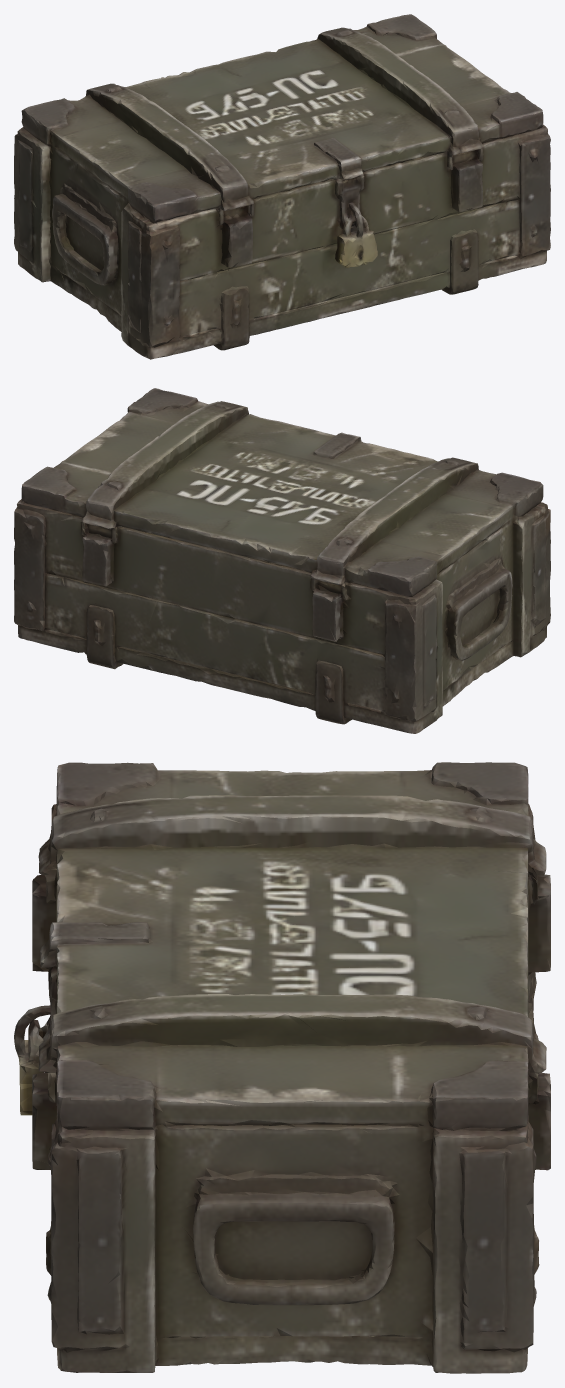
Rendered from military_crate.glb.
3 renders of one model, top to bottom at view 1: azimuth 30°, elevation 25°; view 2: azimuth 150°, elevation 25°; view 3: azimuth 270°, elevation 25°, orthographic. The views are drawn at different scales.
Parts seen in each view (by area): view 1: military_crate; view 2: military_crate; view 3: military_crate.
Boxes of the visible parts, x1,y1,x2,y2 form: military_crate: (14, 14, 550, 359); military_crate: (14, 388, 550, 733); military_crate: (14, 762, 550, 1373).
Bounding box in the file's own units: 1.5 × 0.6323 × 0.974.
Materials: 1 (1 with a texture image).
